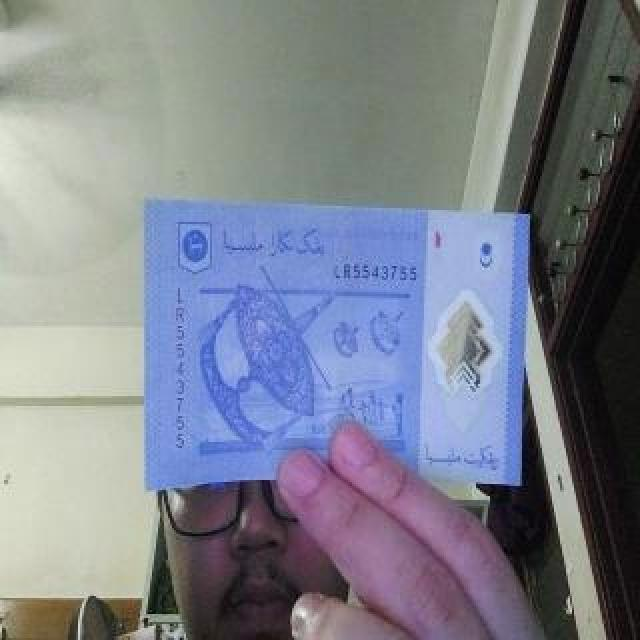1 Ringgit: (142, 198, 534, 498)
